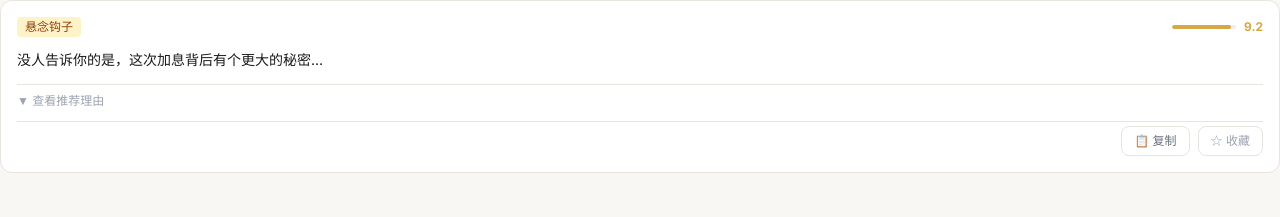
Test: HookCard › reason is hidden by default, shown after toggle click
The width and height of the screenshot is (1280, 217).
expect the text "信息缺口" is not shown: met
Click the button "▼ 查看推荐理由" at [61, 100], box [17,84,1263,109]
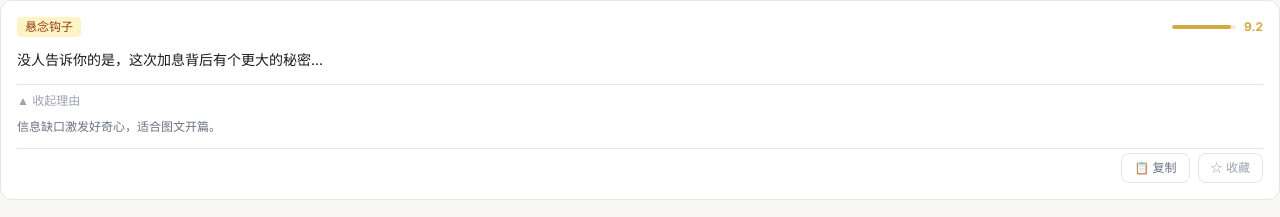
expect the text "信息缺口激发好奇心，适合图文开篇。" is shown: met, box [17,119,221,134]
